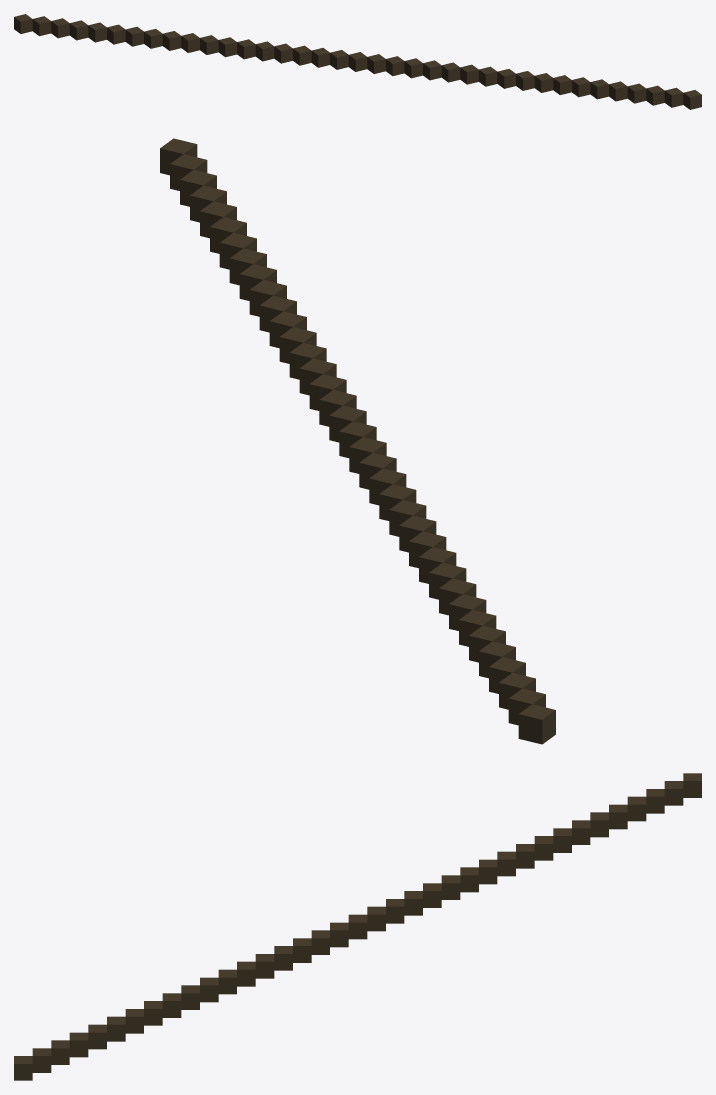
The model's file is tentplank3_2.fbx.
3 renders of one model, top to bottom at view 1: azimuth 30°, elevation 25°; view 2: azimuth 150°, elevation 25°; view 3: azimuth 270°, elevation 25°, orthographic. The views are drawn at different scales.
Parts seen in each view (by area): view 1: tentplank3_2; view 2: tentplank3_2; view 3: tentplank3_2.
Part boxes in pixels (<box>): tentplank3_2: <box>14,14,701,109</box>; tentplank3_2: <box>160,138,555,744</box>; tentplank3_2: <box>14,773,701,1080</box>.
Size of the model in its own units: 37 by 1 by 37.
Materials: 1 (1 with a texture image).
